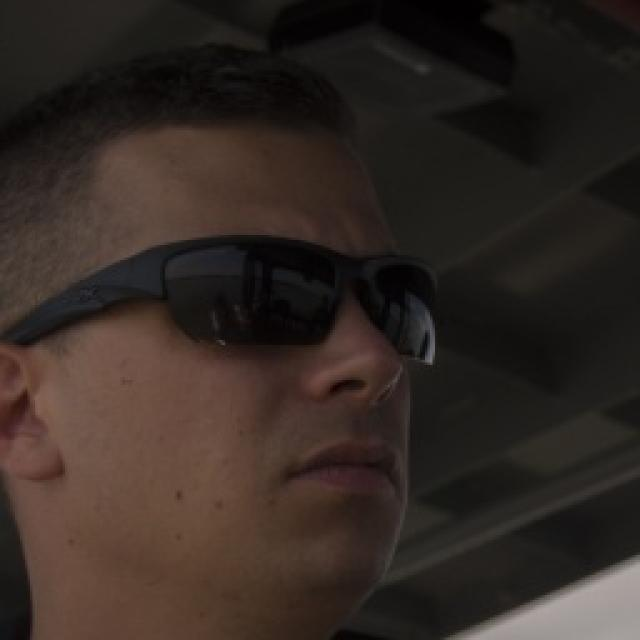glasses: (15, 229, 447, 382)
